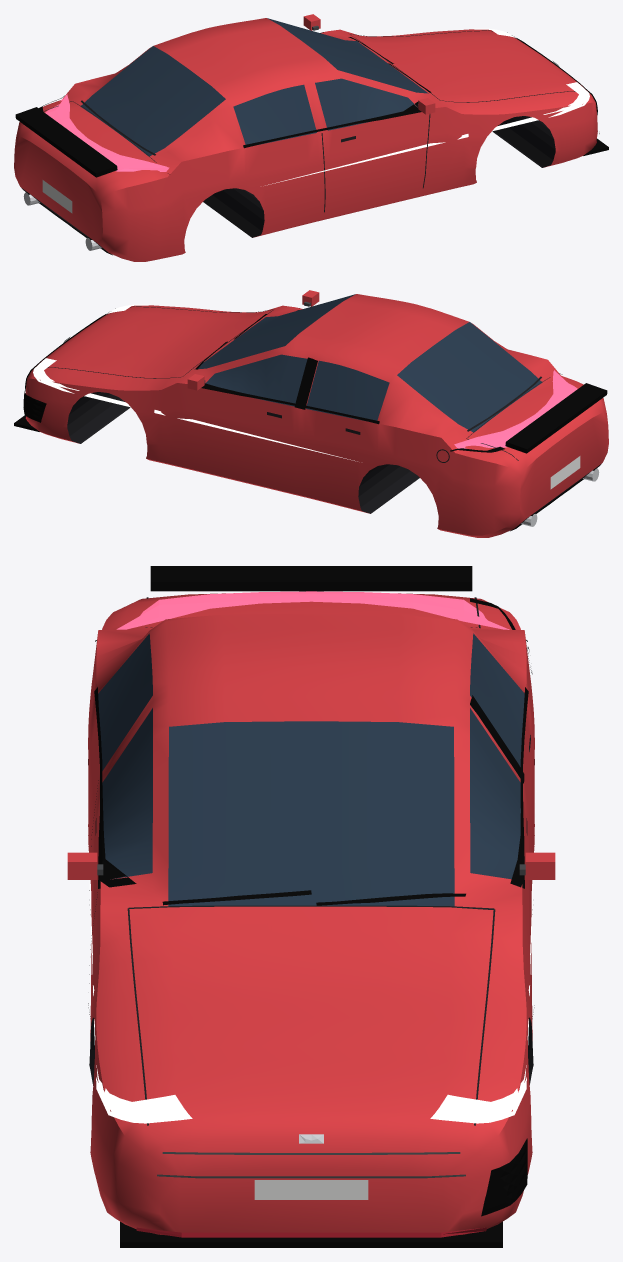
Rendered from hyundai-i30n-cn7.glb.
3 renders of one model, top to bottom at view 1: azimuth 30°, elevation 25°; view 2: azimuth 150°, elevation 25°; view 3: azimuth 270°, elevation 25°, orthographic. The views are drawn at different scales.
Parts seen in each view (by area): view 1: hyundai-i30n-cn7; view 2: hyundai-i30n-cn7; view 3: hyundai-i30n-cn7.
Part boxes in pixels (x1,y1,x2,y2): hyundai-i30n-cn7: [14, 14, 608, 261]; hyundai-i30n-cn7: [14, 290, 608, 537]; hyundai-i30n-cn7: [67, 566, 555, 1247].
Bounding box in the file's own units: 4.72 × 1.28 × 1.97.
